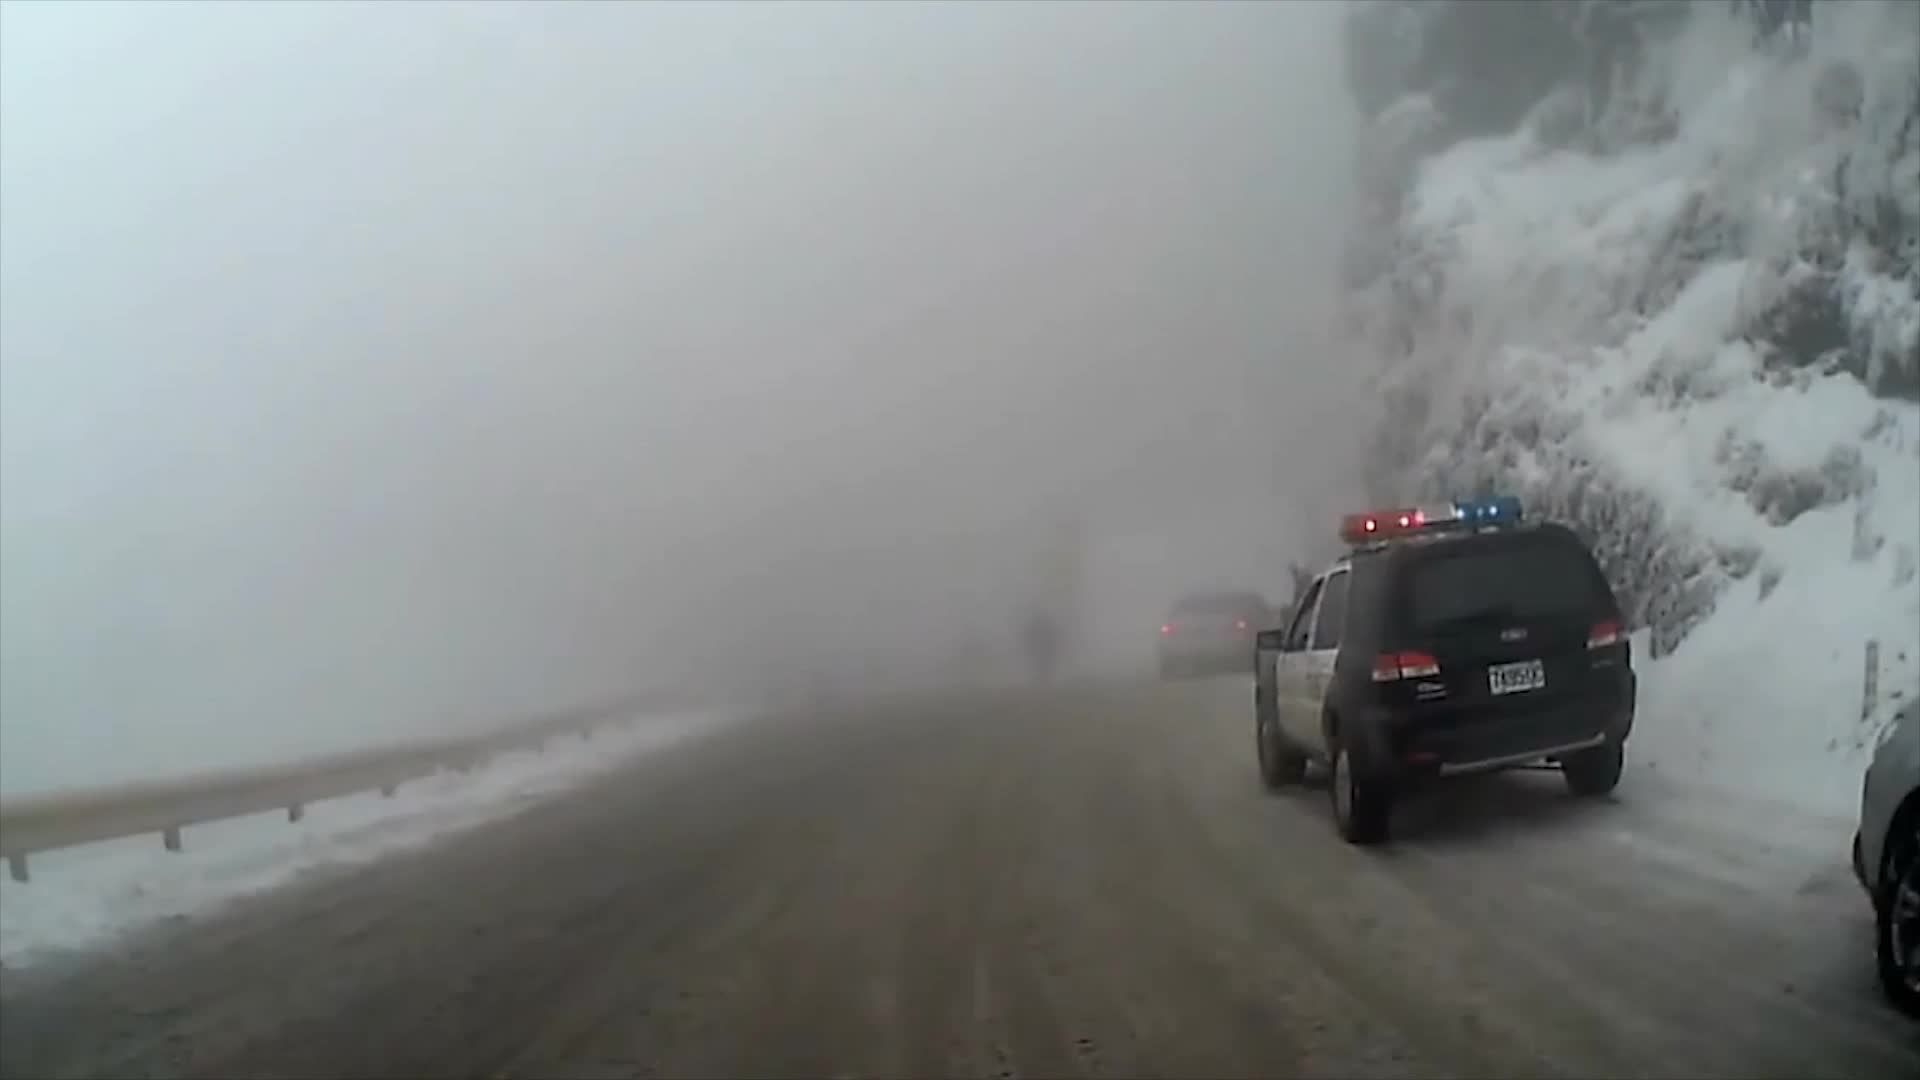vehicle: (1251, 491, 1638, 847), (1847, 709, 1919, 1015), (1156, 587, 1283, 678)
